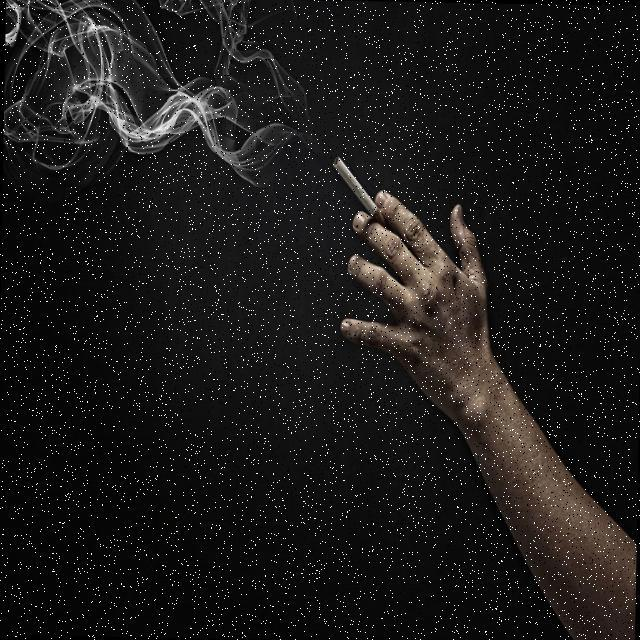cigarette: (331, 151, 384, 228)
